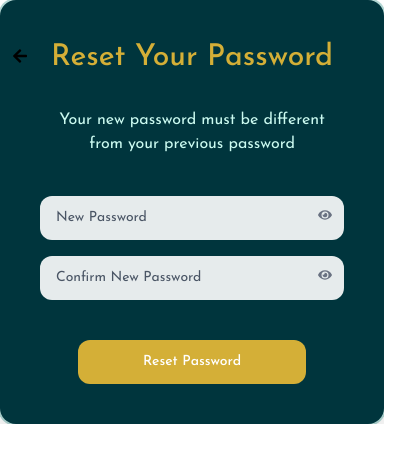
it: ResetFormClient › shows error if passwords do not match
In the password field with placeholder "New Password": [192, 218] box [40,196,344,240], type "password123"
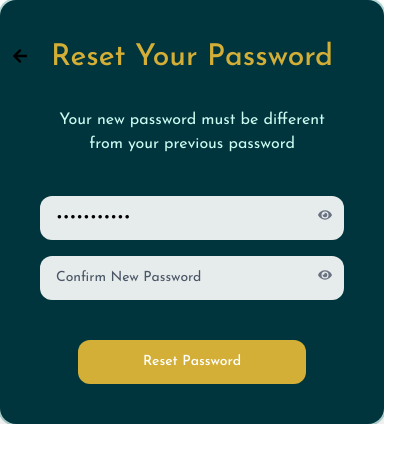
In the password field with placeholder "Confirm New Password": [192, 278] box [40,256,344,300], type "password321"
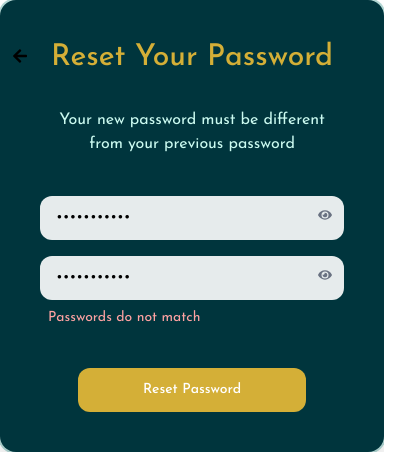
Result: the text "Passwords do not match" is shown at [48,310,200,325]
